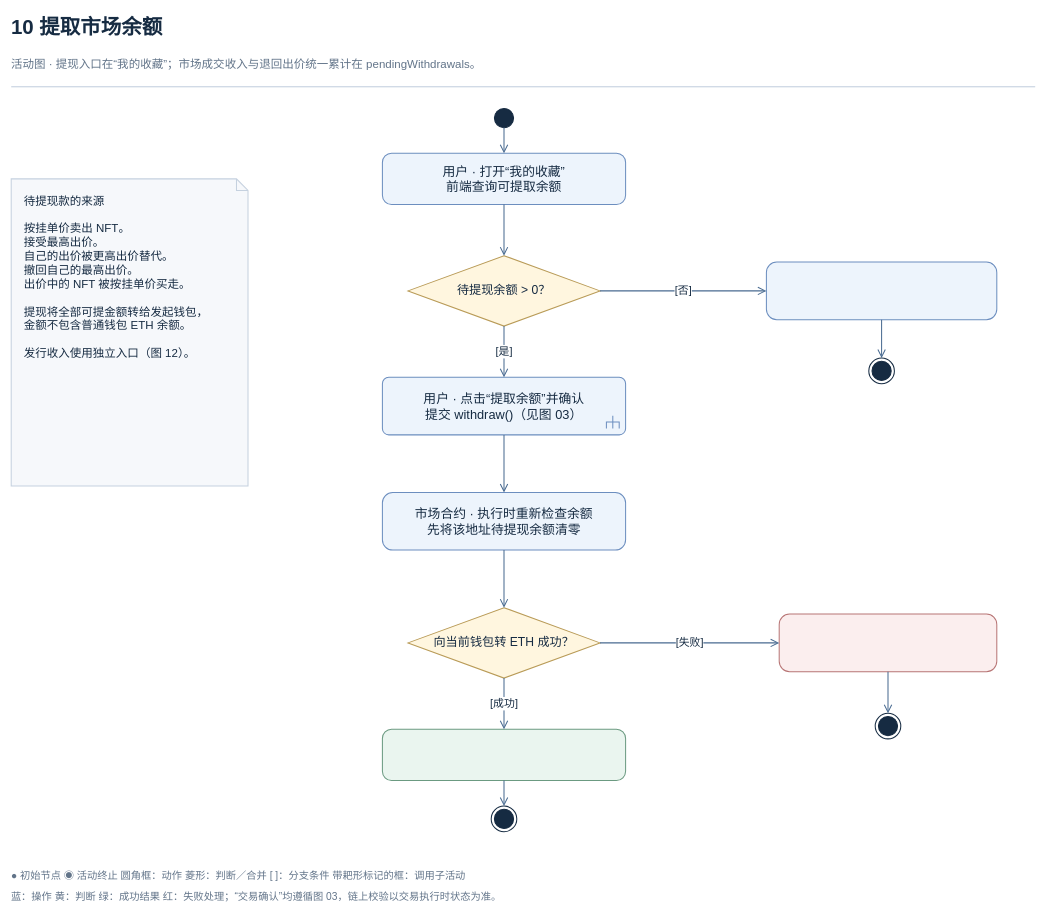
This 1046x916 diagram has some shape labels left out. Each missing label, with the centre of its shape:
前端 · 刷新钱包余额与待提现款: [504,754]
整笔交易回滚 待提现余额保留，可稍后重试: [887,642]
没有可提现款 按钮禁用，稍后再查看: [881,290]
